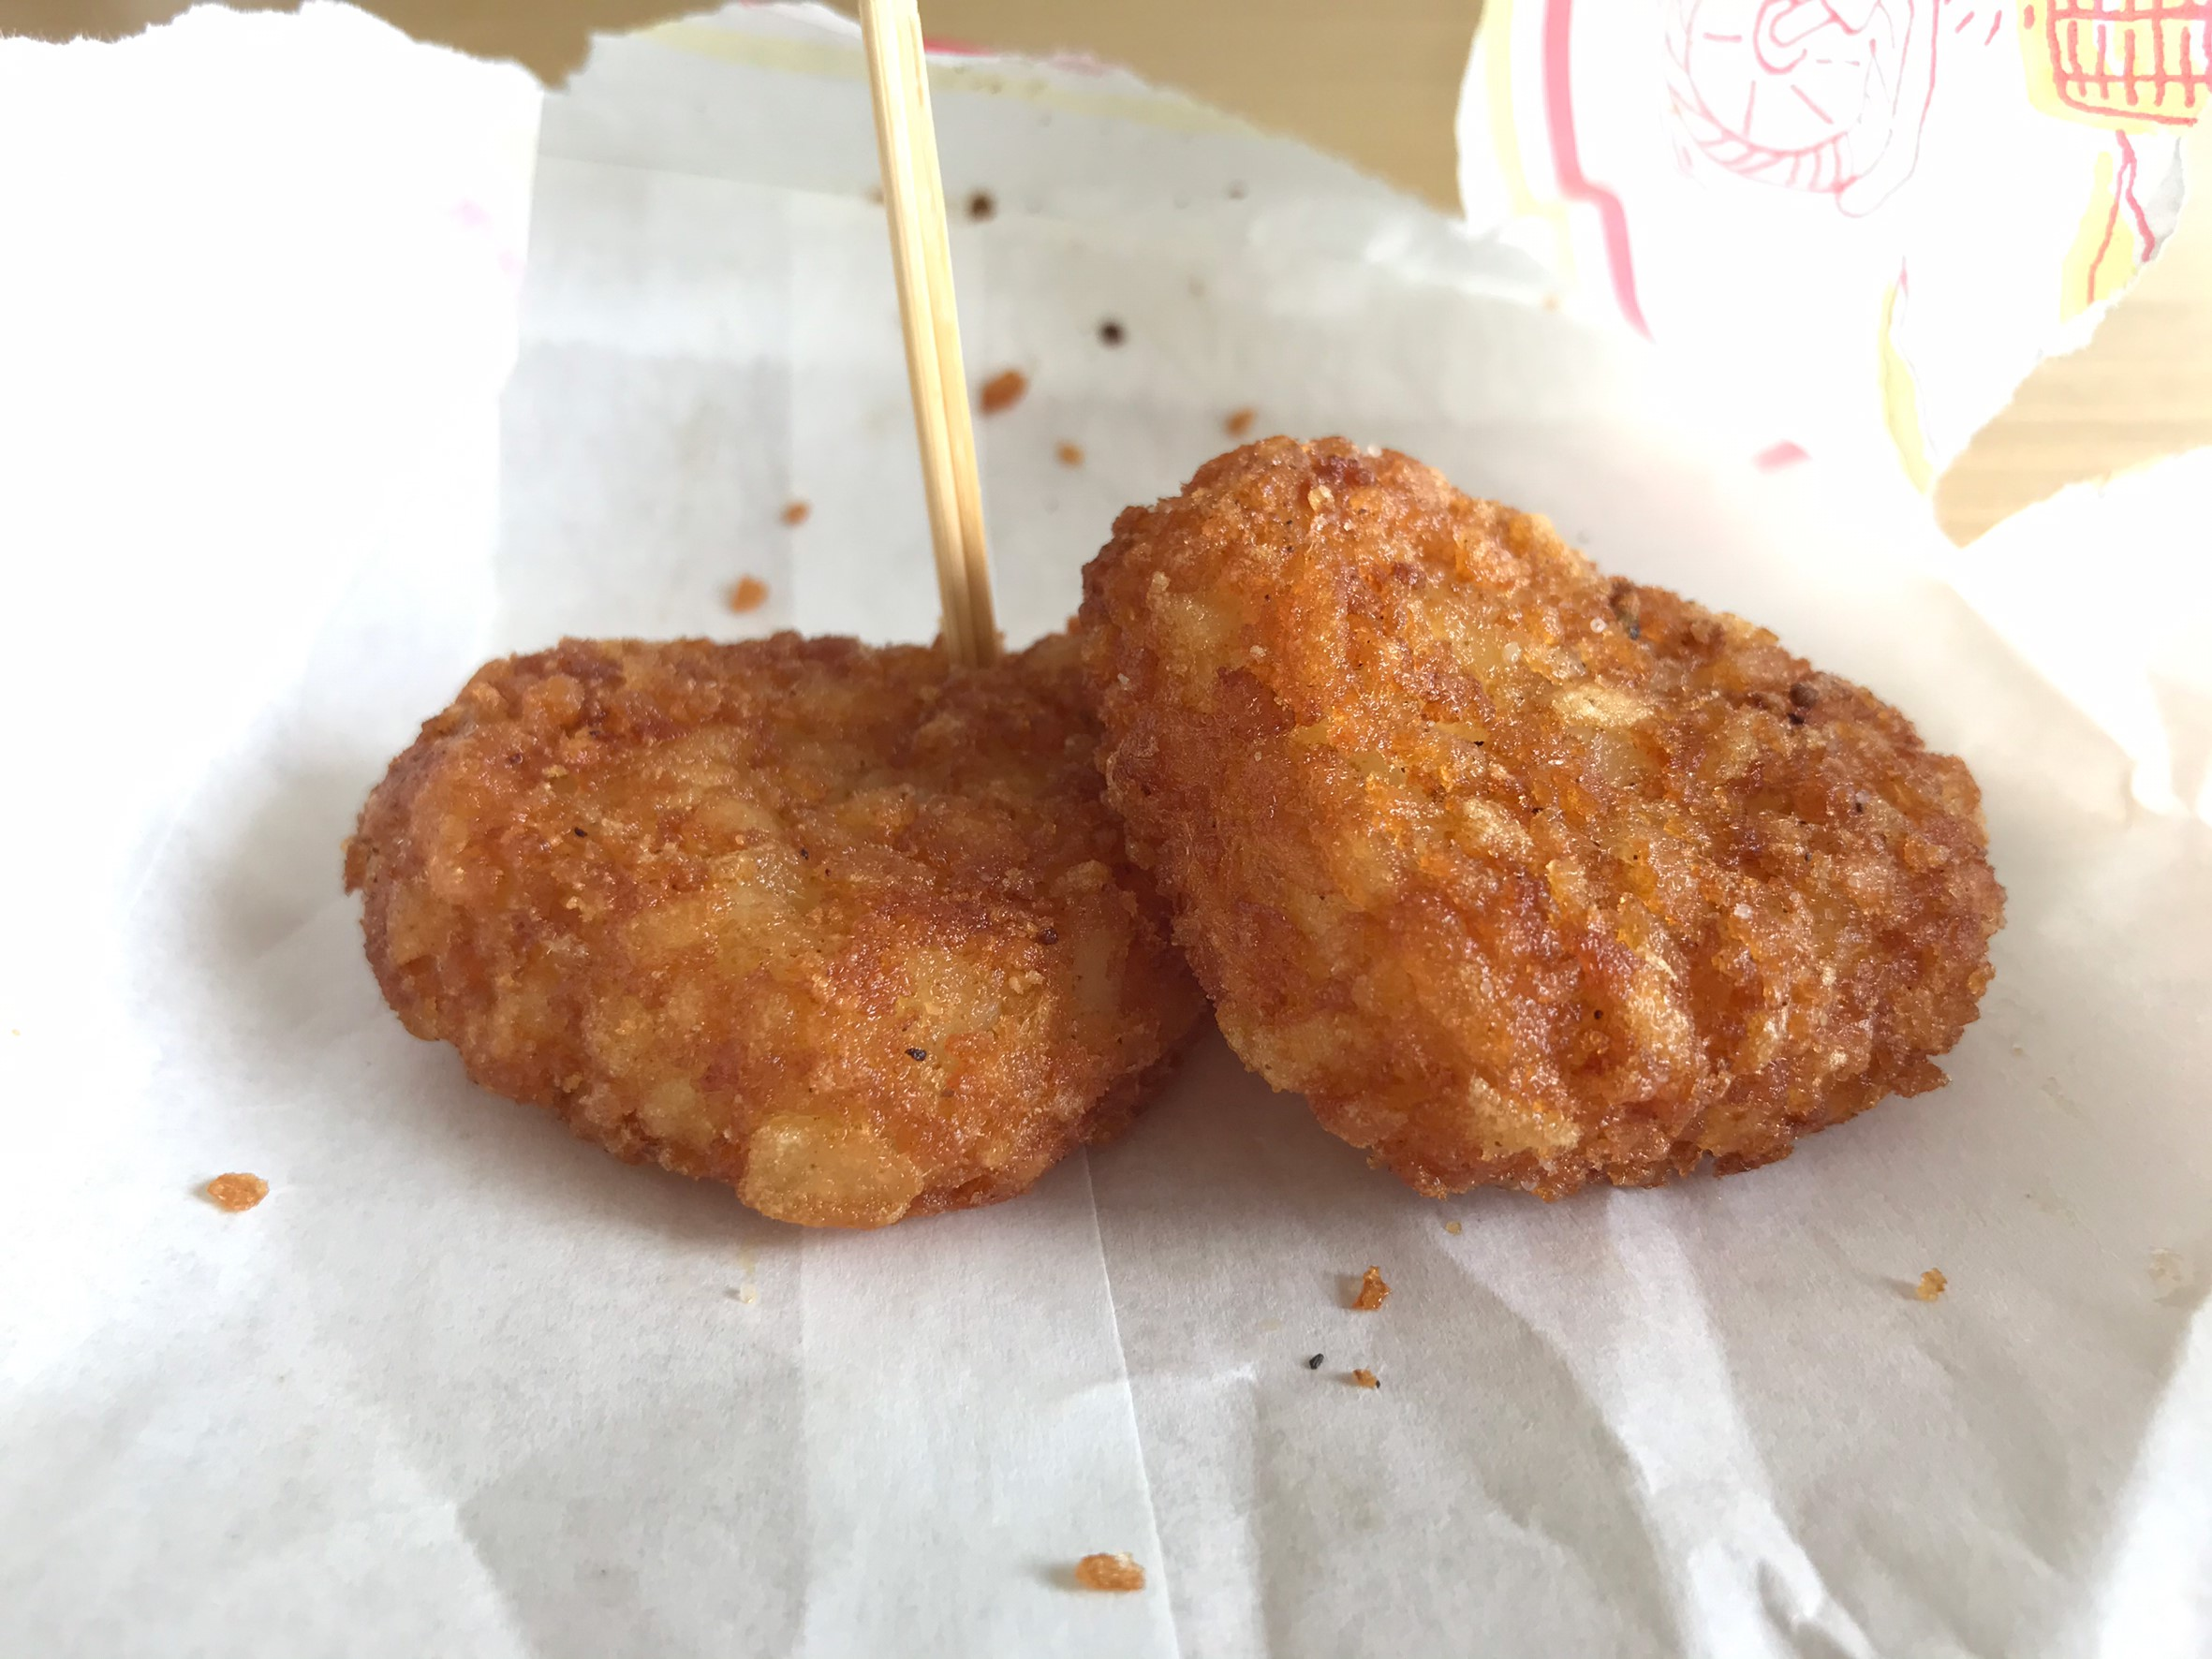triangle_hash_brown: (356, 439, 1971, 1222)
